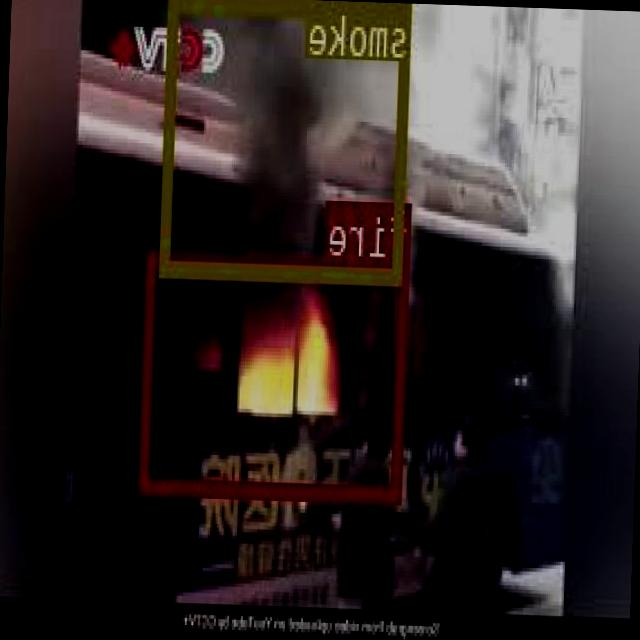fire: (141, 251, 410, 498)
smoke: (162, 0, 413, 282)
